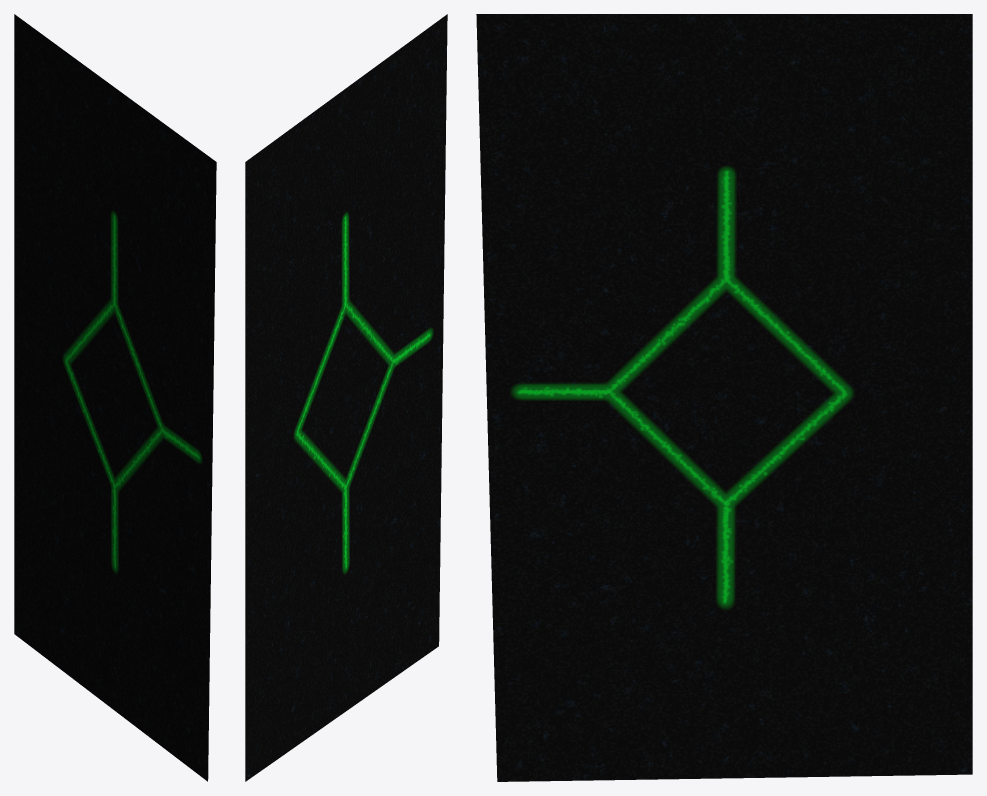
The model's file is Puzel3.glb.
3 renders of one model, left to right at view 1: azimuth 30°, elevation 25°; view 2: azimuth 150°, elevation 25°; view 3: azimuth 270°, elevation 25°, orthographic. The views are drawn at different scales.
Parts seen in each view (by area): view 1: Plane.029; view 2: Plane.029; view 3: Plane.029.
Boxes of the visible parts, x1,y1,x2,y2 form: Plane.029: (14, 14, 216, 781); Plane.029: (245, 14, 447, 781); Plane.029: (476, 14, 972, 781).
Bounding box in the file's own units: 1.49e-07 × 1.65 × 0.9663.
Materials: 1 (1 with a texture image).
